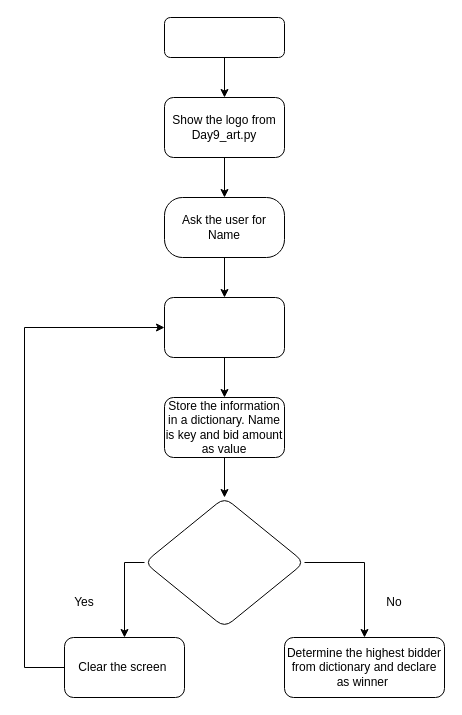
This 462x715 diagram has some shape labels left out. Here are the shapes that lost their labels. From the top down, the box of each, then its label:
(164, 16, 284, 58): Start
(164, 296, 284, 358): Ask the user for bid amount
(144, 496, 304, 628): Are there other users who want to bid ?
